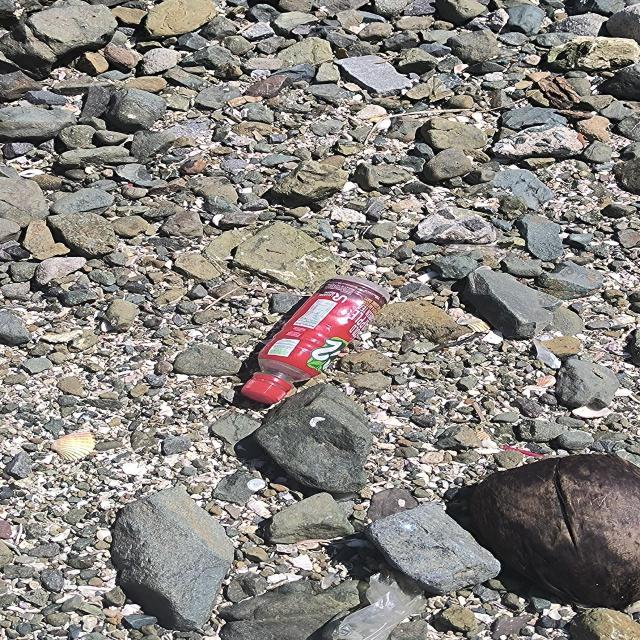plastic_waste: (242, 276, 393, 404)
